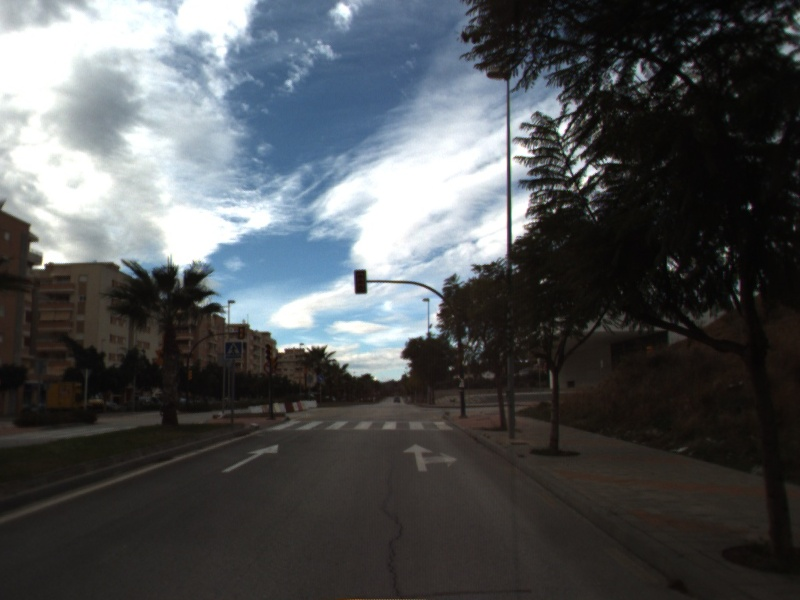STRAIGHT: (220, 442, 280, 474)
STRAIGHT_RIGHT: (401, 441, 459, 473)
